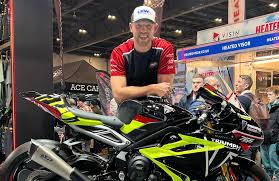motorcycle: (1, 70, 271, 181)
